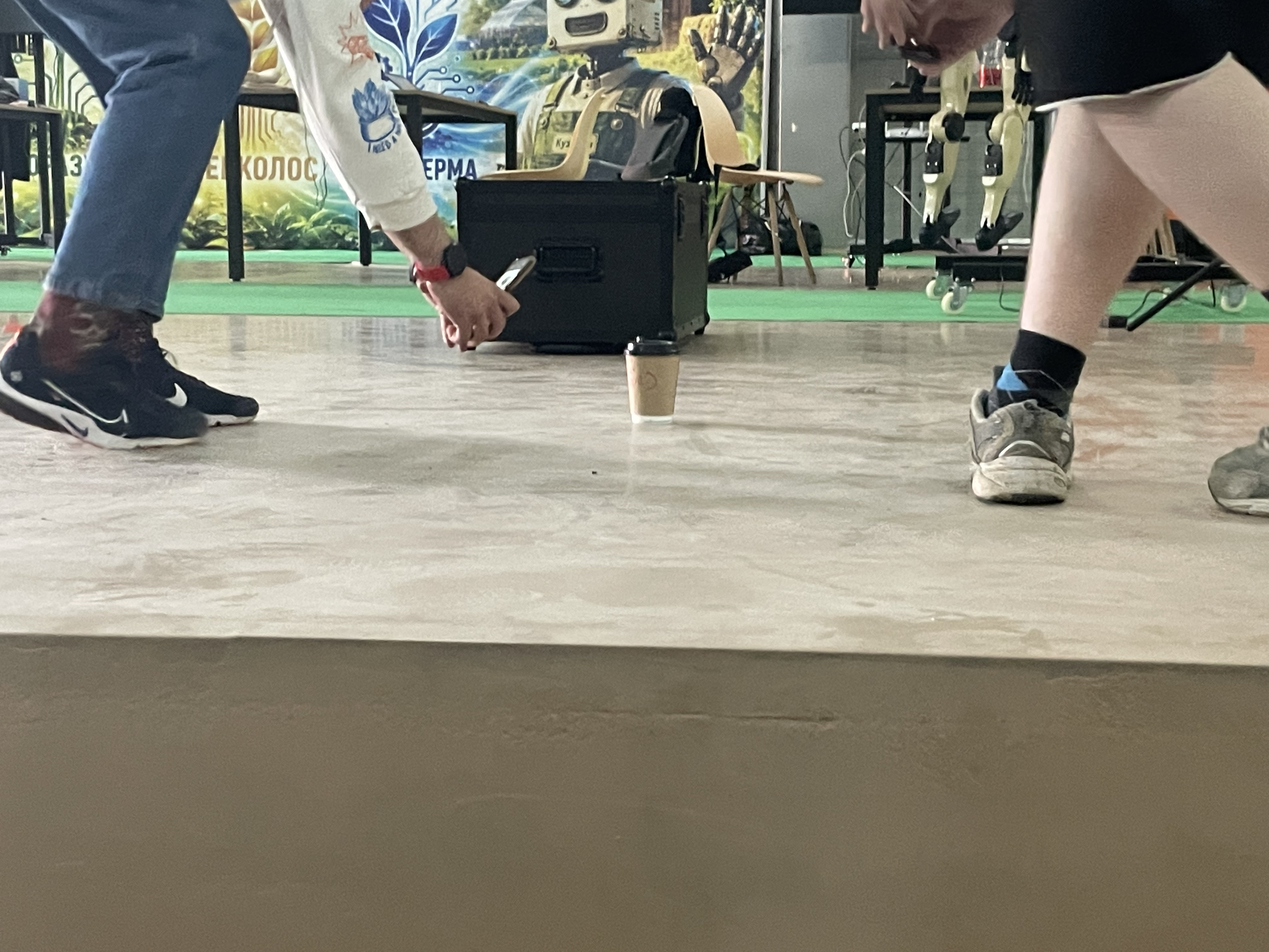cup: (623, 335, 682, 424)
